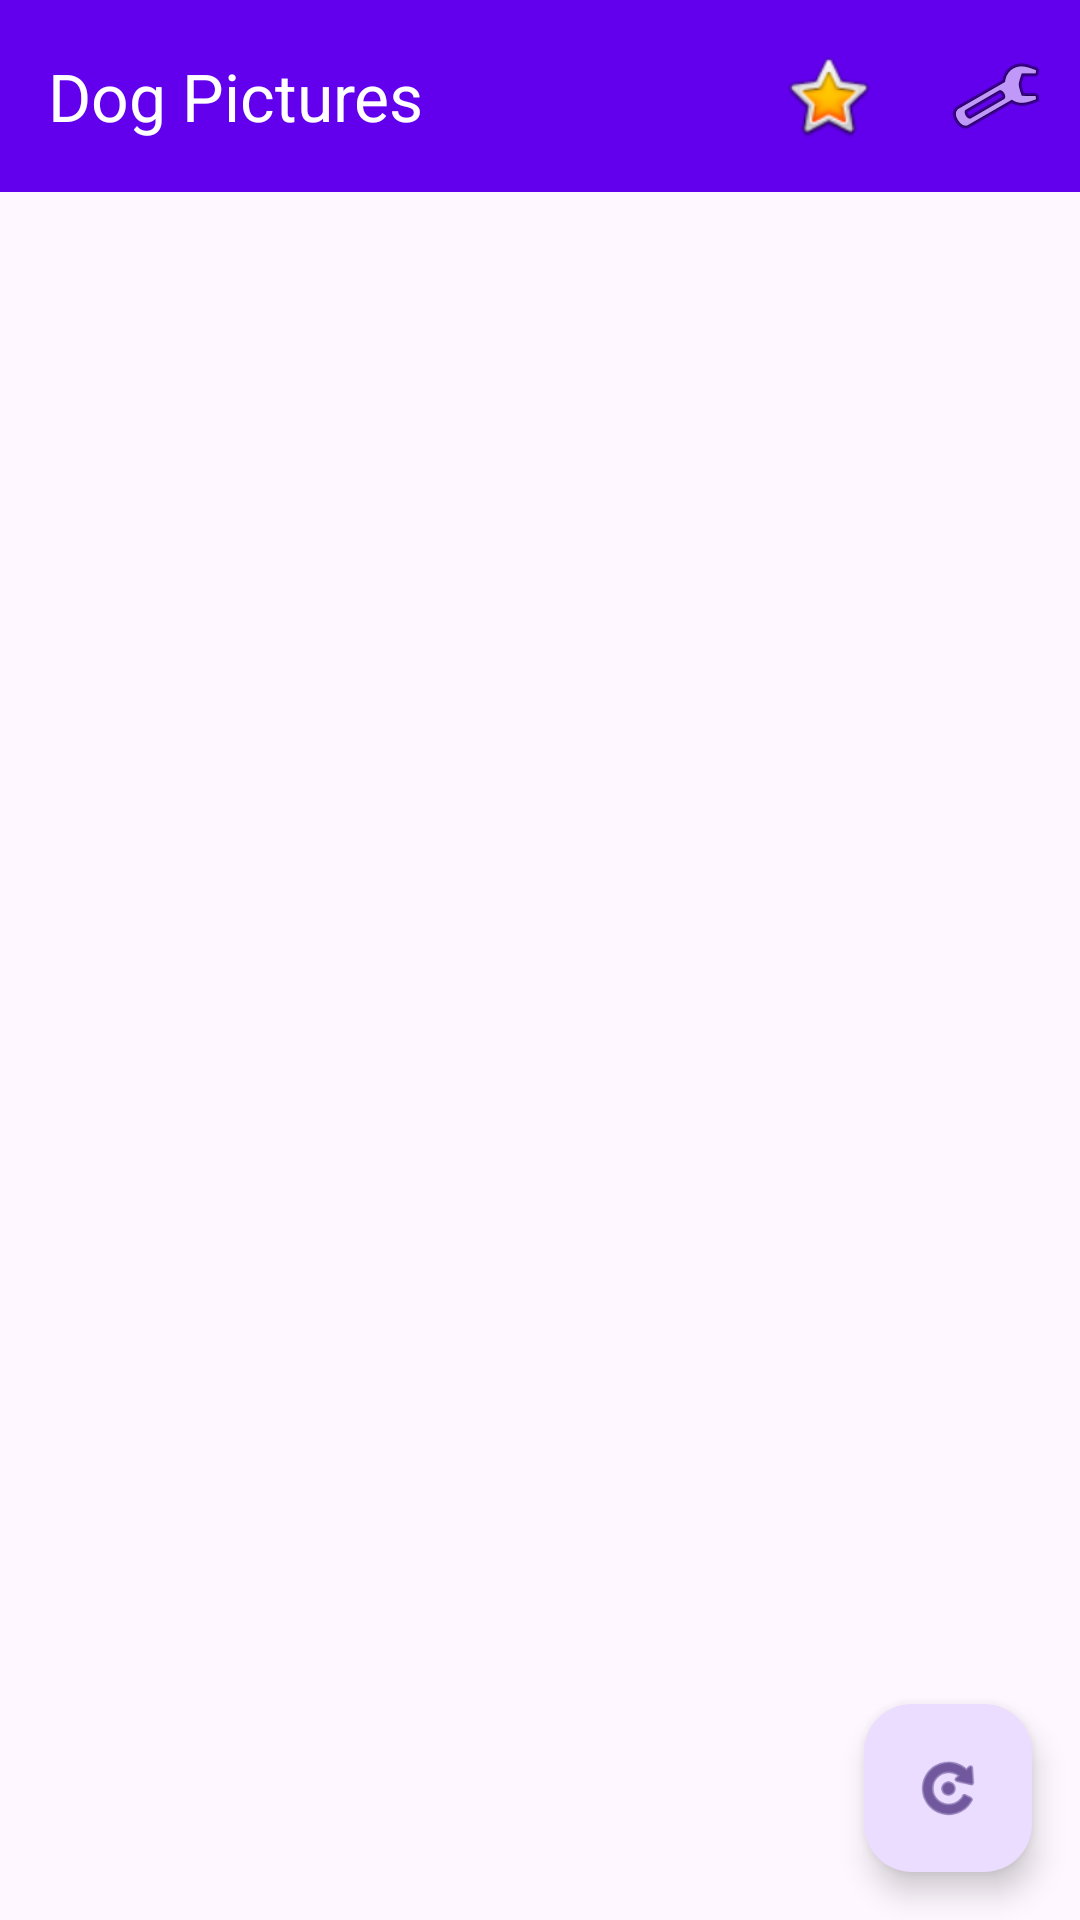

Icons on this 1080px x 1920px Android screen, each with the point to tap as (x,y):
Refresh: (948,1788)
